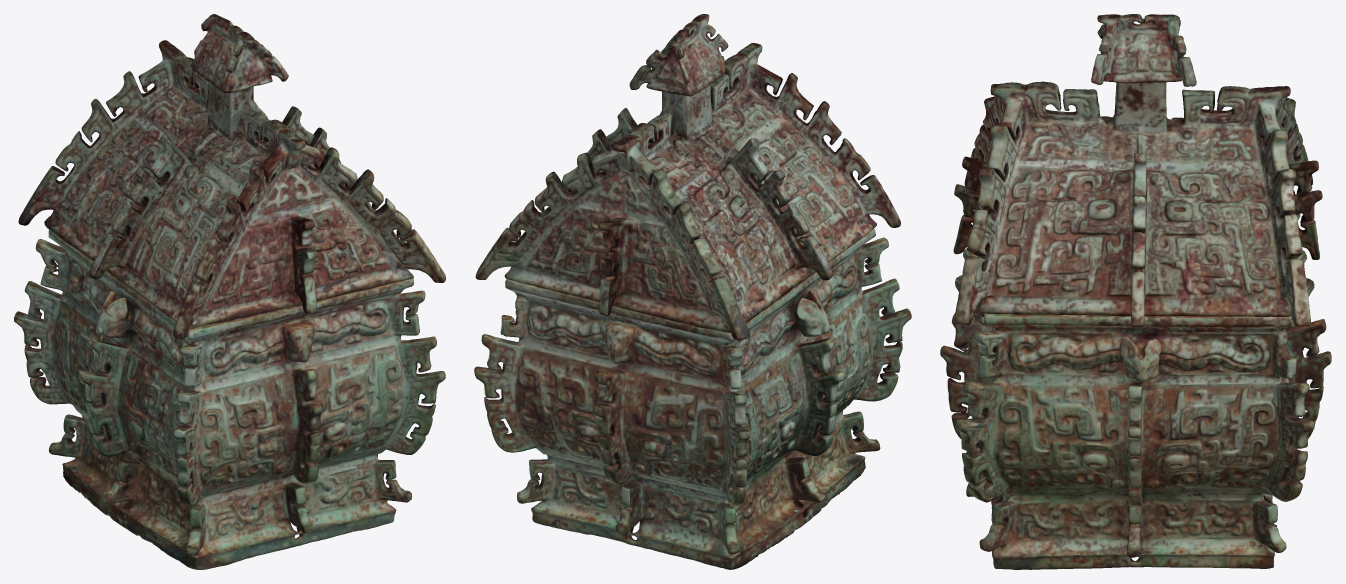
Rendered from preview.glb.
3 renders of one model, left to right at view 1: azimuth 30°, elevation 25°; view 2: azimuth 150°, elevation 25°; view 3: azimuth 270°, elevation 25°, orthographic. The views are drawn at different scales.
Visible parts, largest first — view 1: Mesh_0.003; view 2: Mesh_0.003; view 3: Mesh_0.003.
Boxes of the visible parts, bbox=[...] form: Mesh_0.003: bbox=[14, 14, 445, 569]; Mesh_0.003: bbox=[474, 14, 911, 569]; Mesh_0.003: bbox=[940, 14, 1331, 569].
Bounding box in the file's own units: 0.2328 × 0.3536 × 0.2476.
1 material, 1 textured.
